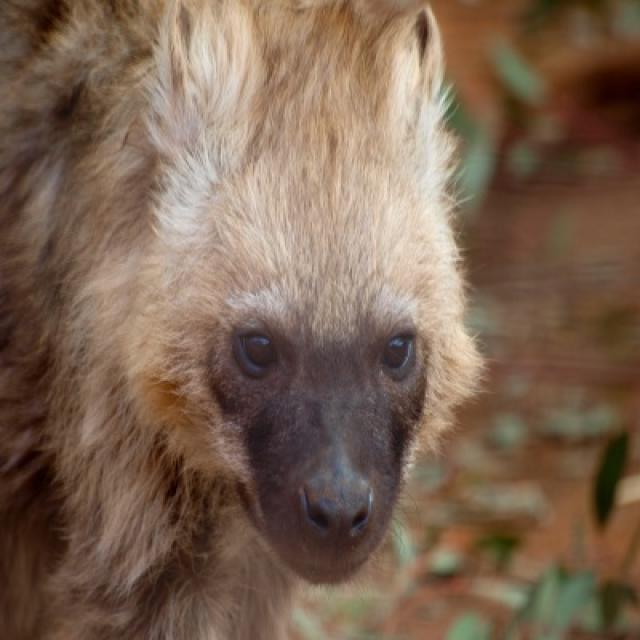hyena: (0, 0, 485, 638)
